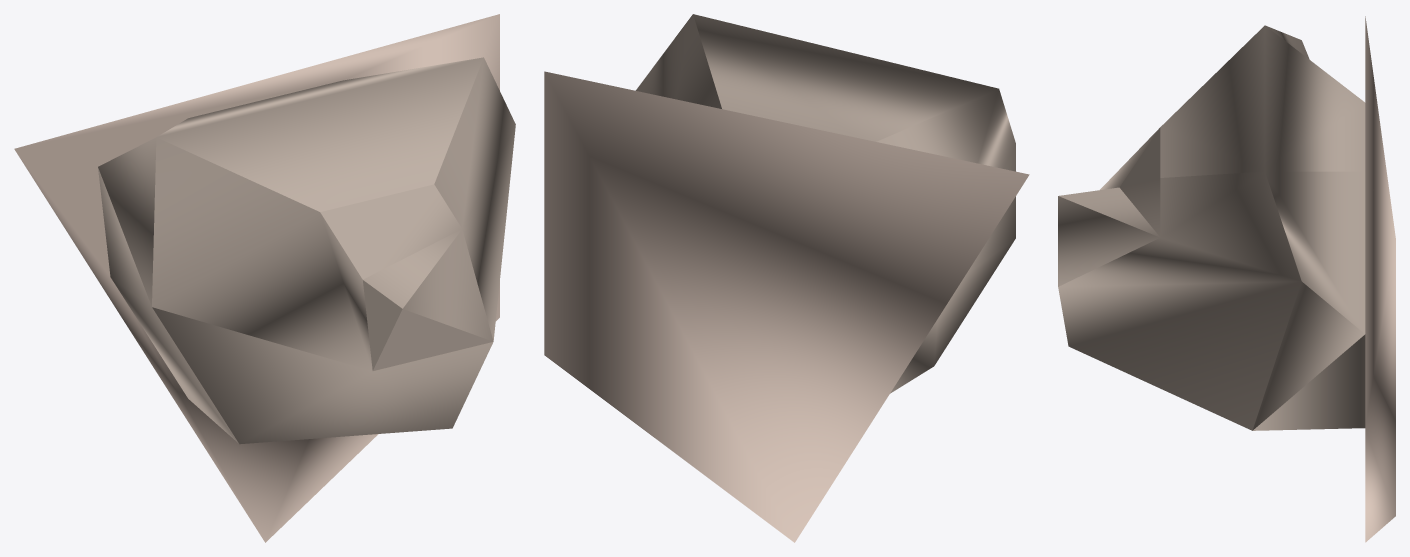
The model's file is bear.glb.
3 views of the same model, side by side, from view 1: azimuth 30°, elevation 25°; view 2: azimuth 150°, elevation 25°; view 3: azimuth 270°, elevation 25° (orthographic). The views are drawn at different scales.
Visible parts, largest first — view 1: bear(Clone); view 2: bear(Clone); view 3: bear(Clone).
Boxes of the visible parts, bbox=[...] form: bear(Clone): bbox=[14, 14, 515, 542]; bear(Clone): bbox=[544, 14, 1029, 542]; bear(Clone): bbox=[1058, 16, 1395, 542].
Size of the model in its own units: 0.3897 by 0.36 by 0.2479.
